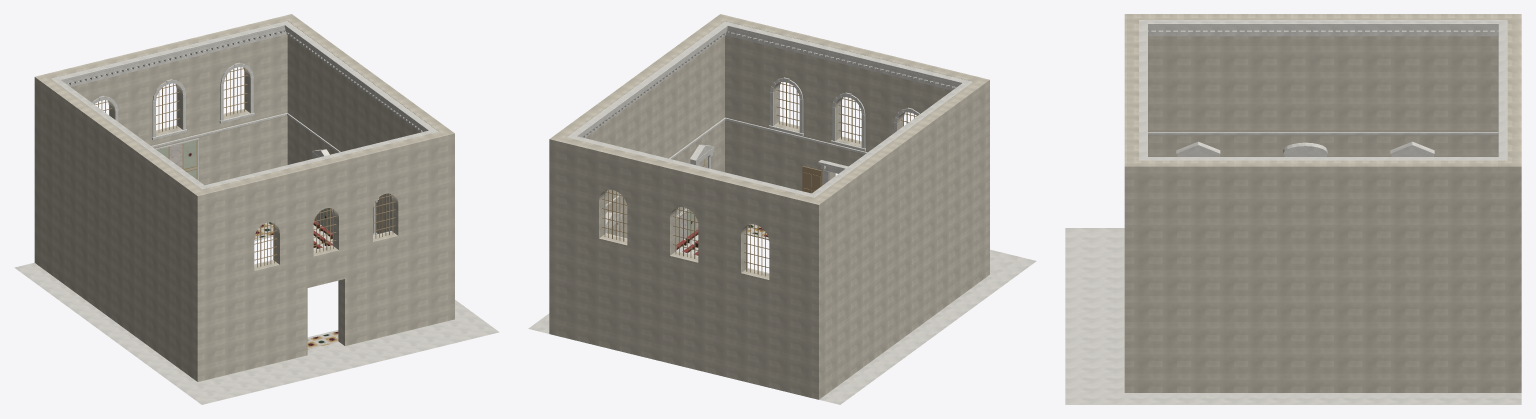
The model's file is roman-curia-kit.glb.
3 renders of one model, left to right at view 1: azimuth 30°, elevation 25°; view 2: azimuth 150°, elevation 25°; view 3: azimuth 270°, elevation 25°, orthographic. The views are drawn at different scales.
Visible parts, largest first — view 1: curia_facade_stucco, curia_wall_west_stucco, curia_wall_north_stucco, curia_floor_marble, curia_wall_east_stucco, curia_wall_north_marble, curia_wall_east_marble, curia_facade_bronze, curia_facade_marble, curia_wall_north_bronze, curia_wall_west_marble, curia_wall_north_revetment (+1 smaller); view 2: curia_wall_north_stucco, curia_wall_west_stucco, curia_facade_stucco, curia_wall_east_stucco, curia_facade_marble, curia_floor_marble, curia_wall_east_marble, curia_wall_north_bronze, curia_facade_bronze, curia_wall_north_marble, curia_wall_west_marble, curia_wall_east_revetment; view 3: curia_wall_east_stucco, curia_wall_west_stucco, curia_floor_marble, curia_wall_west_marble, curia_facade_stucco, curia_wall_north_stucco, curia_wall_east_marble, curia_wall_north_marble, curia_facade_marble.
Part boxes in pixels (box(x1,y1,x2,y2)): curia_facade_stucco: box(192, 129, 454, 381); curia_wall_west_stucco: box(40, 78, 201, 377); curia_wall_north_stucco: box(34, 14, 297, 266); curia_floor_marble: box(14, 235, 499, 404); curia_wall_east_stucco: box(287, 18, 448, 233); curia_wall_north_marble: box(51, 22, 289, 180); curia_wall_east_marble: box(282, 21, 435, 235); curia_facade_bronze: box(254, 193, 395, 267); curia_facade_marble: box(199, 129, 438, 341); curia_wall_north_bronze: box(94, 67, 247, 132); curia_wall_west_marble: box(51, 77, 206, 188); curia_wall_north_revetment: box(155, 140, 196, 179); curia_wall_north_stucco: box(549, 134, 824, 399); curia_wall_west_stucco: box(815, 81, 983, 394); curia_facade_stucco: box(714, 14, 989, 278); curia_wall_east_stucco: box(556, 18, 724, 238); curia_facade_marble: box(721, 21, 972, 184); curia_floor_marble: box(528, 232, 1036, 404); curia_wall_east_marble: box(567, 21, 730, 236); curia_wall_north_bronze: box(602, 189, 769, 276); curia_facade_bronze: box(776, 82, 916, 193); curia_wall_north_marble: box(567, 135, 817, 273); curia_wall_west_marble: box(809, 81, 971, 197); curia_wall_east_revetment: box(607, 159, 704, 244); curia_wall_east_stucco: box(1139, 160, 1507, 392); curia_wall_west_stucco: box(1139, 14, 1507, 156); curia_floor_marble: box(1065, 228, 1521, 404); curia_wall_west_marble: box(1139, 20, 1507, 156); curia_facade_stucco: box(1124, 14, 1138, 392); curia_wall_north_stucco: box(1507, 14, 1521, 392); curia_wall_east_marble: box(1139, 157, 1507, 160); curia_wall_north_marble: box(1498, 20, 1507, 160); curia_facade_marble: box(1139, 20, 1147, 160).
Bounding box in the file's own units: 35.2 × 21 × 38.4.
8 materials, 5 textured.
